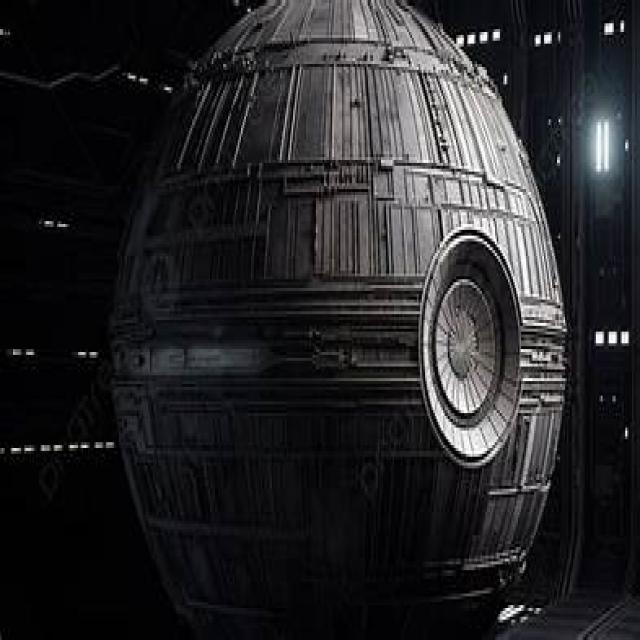deathStar: (108, 0, 565, 637)
